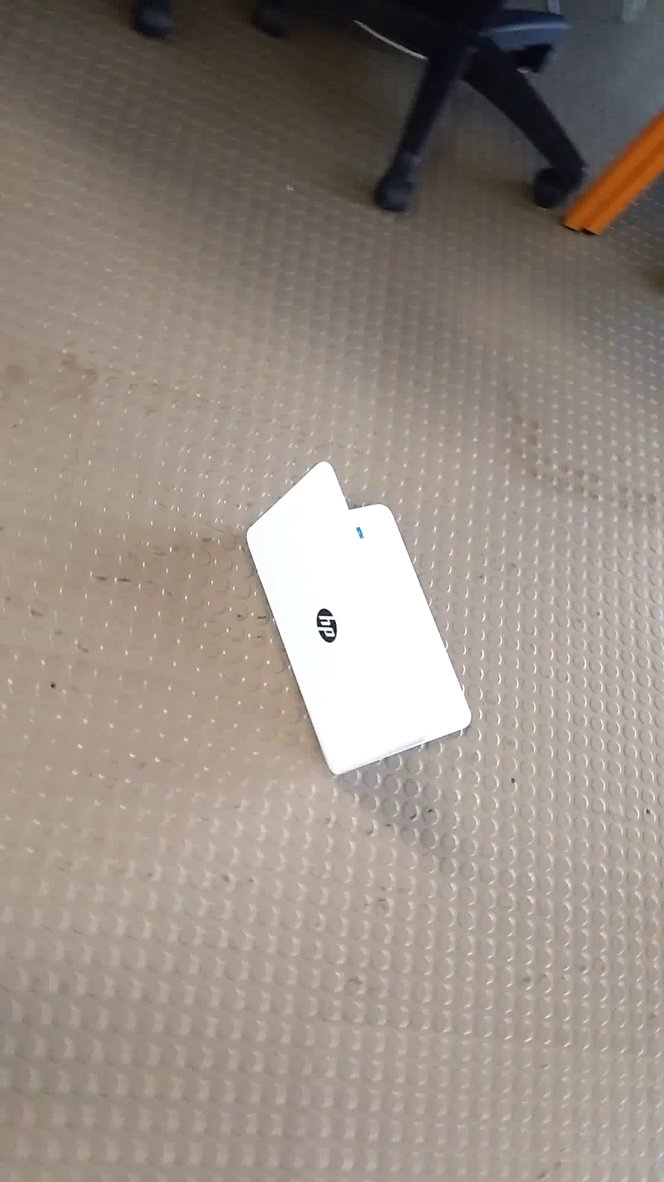laptop: (237, 448, 486, 795)
